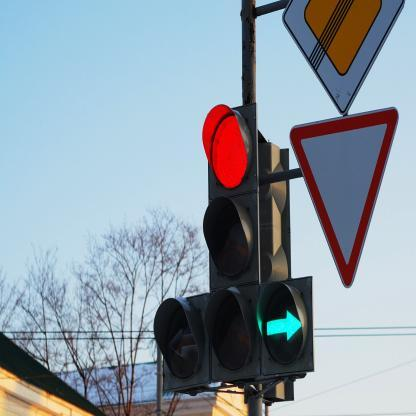obstructed_road_sign: (282, 0, 405, 114)
road_sign: (289, 108, 398, 288)
traffic light: (154, 103, 313, 390)
